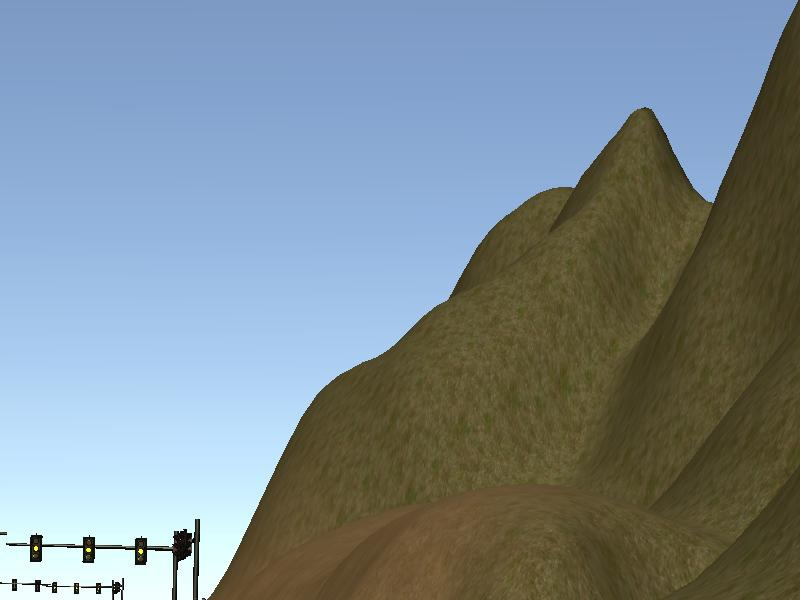yellow_light: (82, 538, 96, 562), (30, 537, 42, 562), (136, 539, 147, 566)
